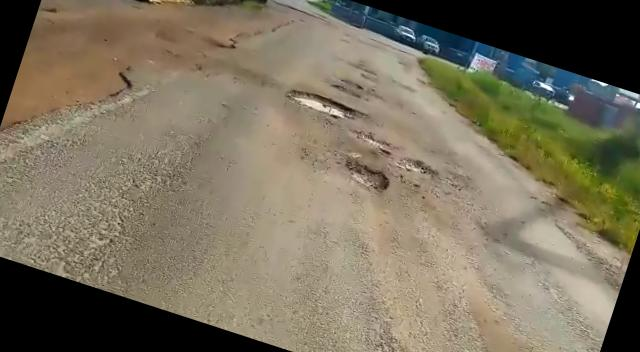pothole: (283, 82, 365, 126), (338, 156, 394, 198), (393, 150, 448, 184), (343, 126, 398, 159), (326, 78, 372, 102)
